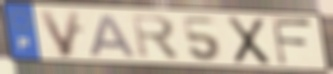5: (180, 15, 223, 64)
A: (87, 13, 139, 59)
F: (269, 16, 315, 68)
R: (130, 12, 183, 62)
V: (36, 9, 83, 59)
X: (225, 15, 272, 67)
